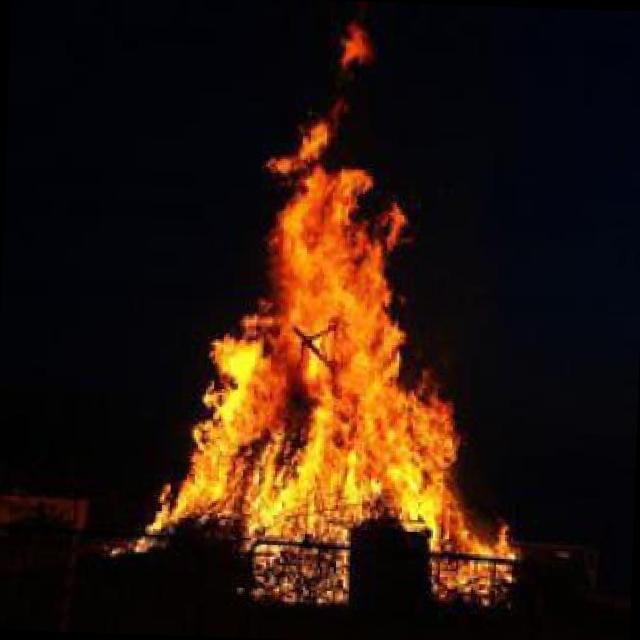Fire: (139, 4, 537, 587)
